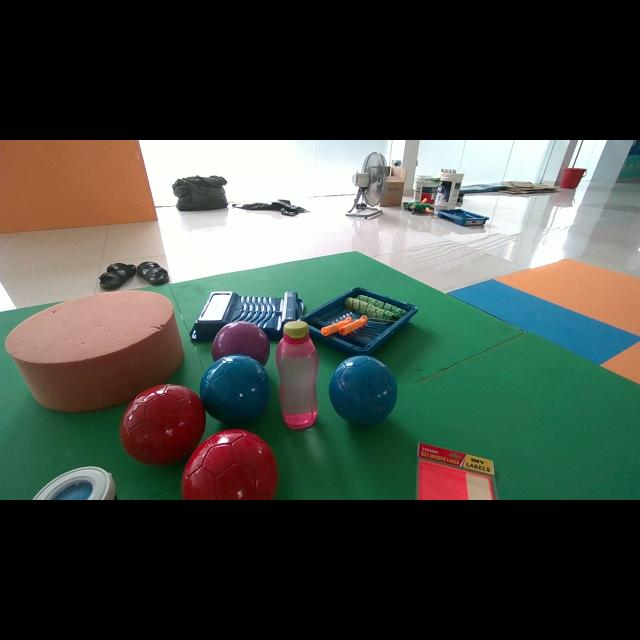B: (200, 355, 271, 424), (329, 355, 398, 425)
P: (211, 321, 270, 365)
R: (120, 384, 205, 465), (181, 430, 279, 500)
